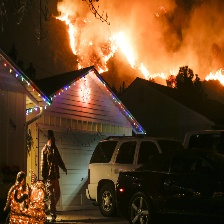fire: (56, 5, 84, 67), (104, 32, 139, 81), (136, 61, 184, 87), (206, 71, 224, 88)
smoke: (85, 3, 224, 62)
